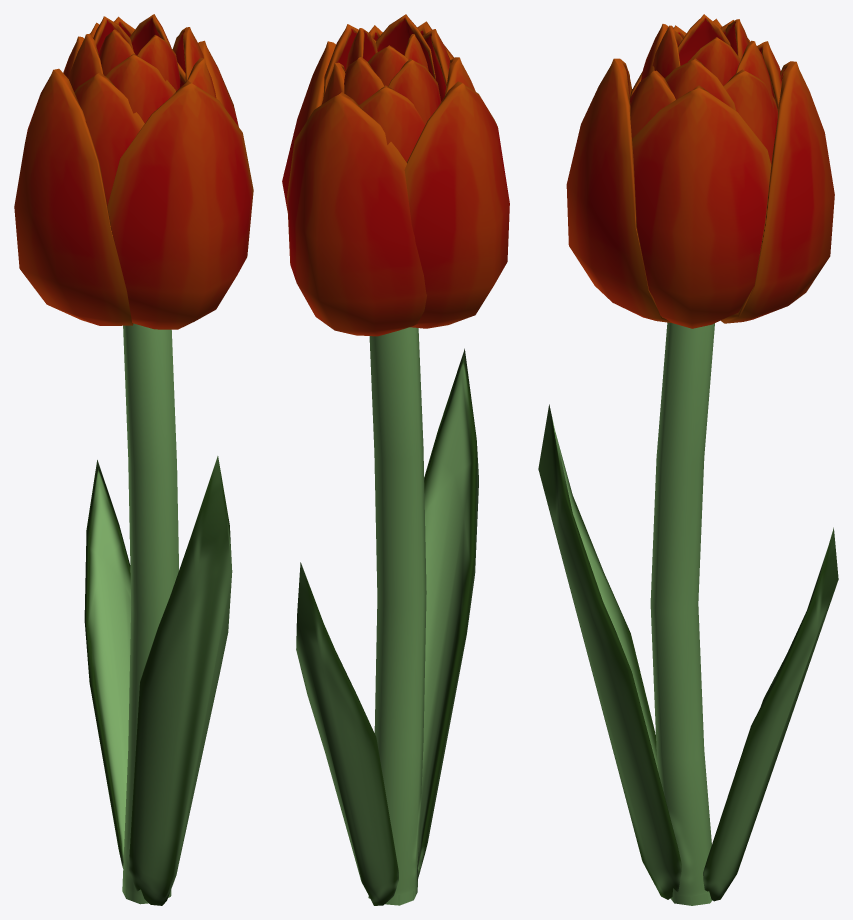
The model's file is tulp low.fbx.
3 renders of one model, left to right at view 1: azimuth 30°, elevation 25°; view 2: azimuth 150°, elevation 25°; view 3: azimuth 270°, elevation 25°, orthographic.
Parts seen in each view (by area): view 1: Tulp; view 2: Tulp; view 3: Tulp.
Part boxes in pixels (box(x1,y1,x2,y2)): Tulp: box(14, 14, 253, 905); Tulp: box(282, 14, 509, 905); Tulp: box(538, 14, 838, 905).
Size of the model in its own units: 110 by 421 by 132.
